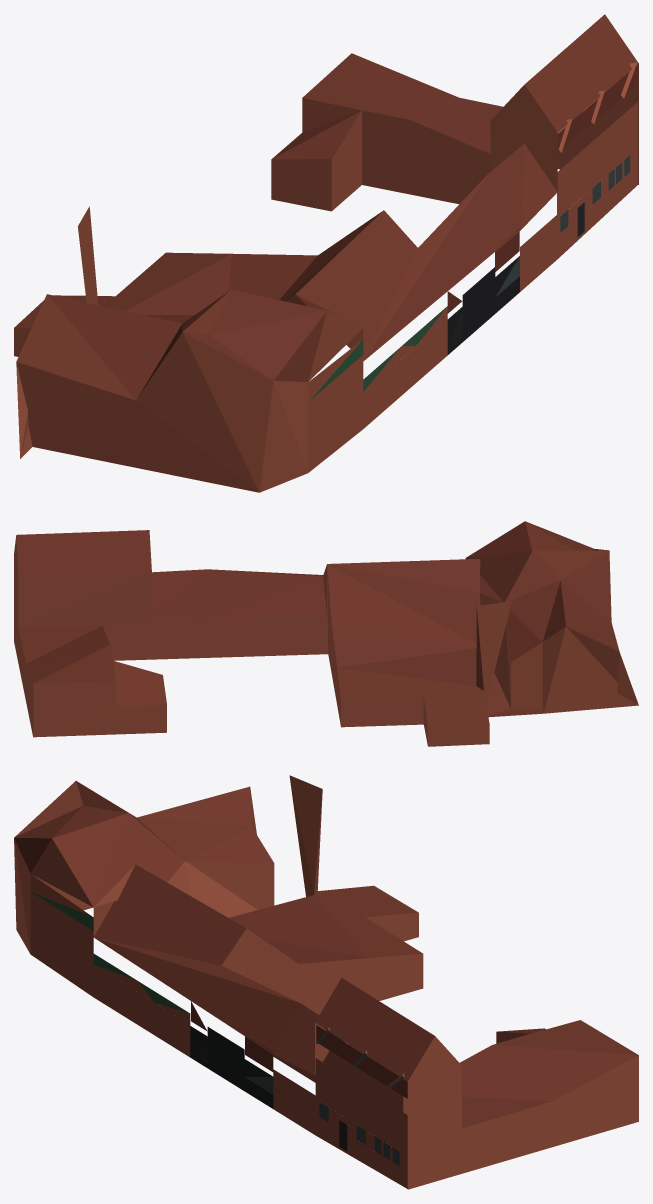
Rendered from splendor.lod2.glb.
The picture shows the model from 3 angles, top to bottom: view 1: azimuth 30°, elevation 25°; view 2: azimuth 150°, elevation 25°; view 3: azimuth 270°, elevation 25°; orthographic projection. The views are drawn at different scales.
Visible parts, largest first — view 1: lod2; view 2: lod2; view 3: lod2.
Part boxes in pixels (x1,y1,x2,y2): lod2: (14, 14, 638, 492); lod2: (14, 521, 638, 746); lod2: (14, 775, 638, 1189).
Size of the model in its own units: 55.29 by 11.99 by 45.24.
